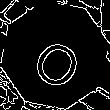O_NE: (23, 22, 87, 88)
